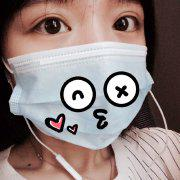OK: (17, 5, 150, 151)
